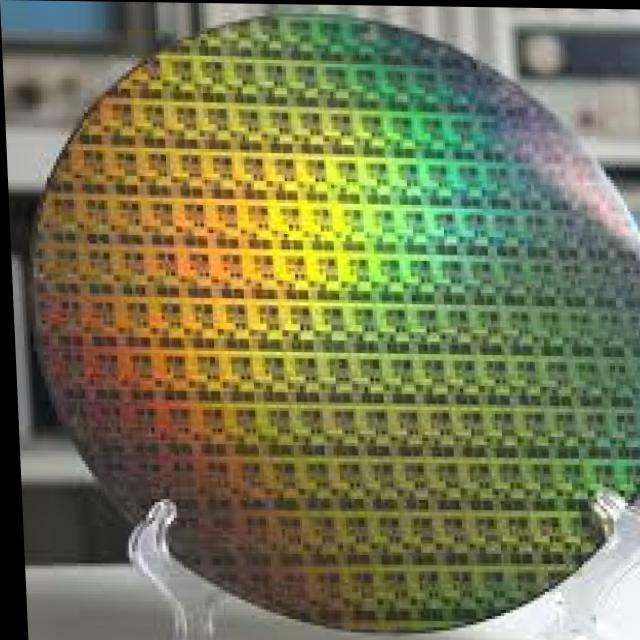Wafer: (29, 13, 640, 640)
